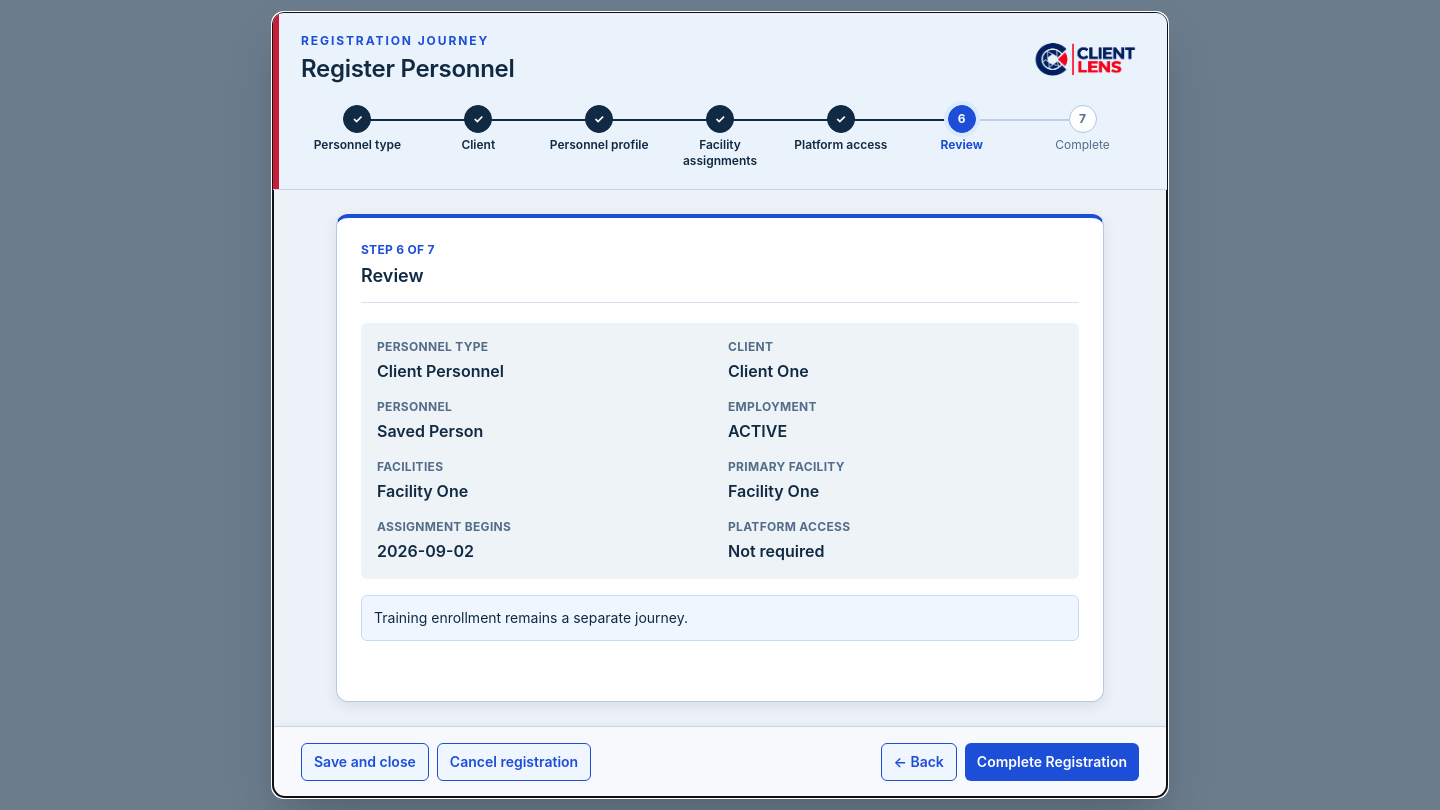
Test case: IS-1B saved Personnel registration duty revalidation › blocks a legacy Review draft without duty, preserves data, and never infers duty from position title
The width and height of the screenshot is (1440, 810).
Click the button "Complete Registration" at (1052, 762), box top-left (965, 743), bottom-right (1139, 781)
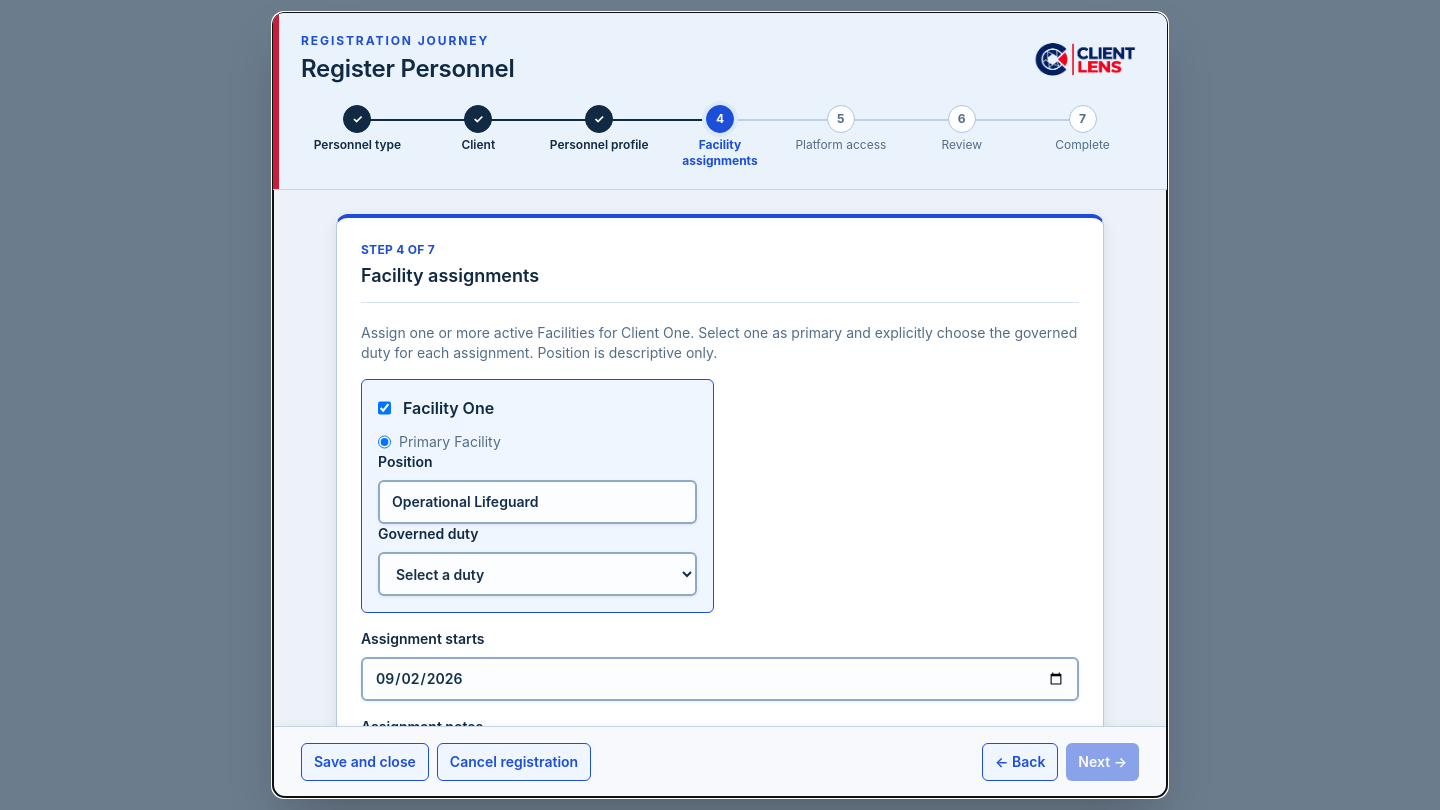
Check: the field labelled "Position" holds "Operational Lifeguard", box top-left (378, 480), bottom-right (697, 524)
Check: the dropdown labelled "Governed duty" shows "Select a duty", box top-left (378, 552), bottom-right (697, 596)
